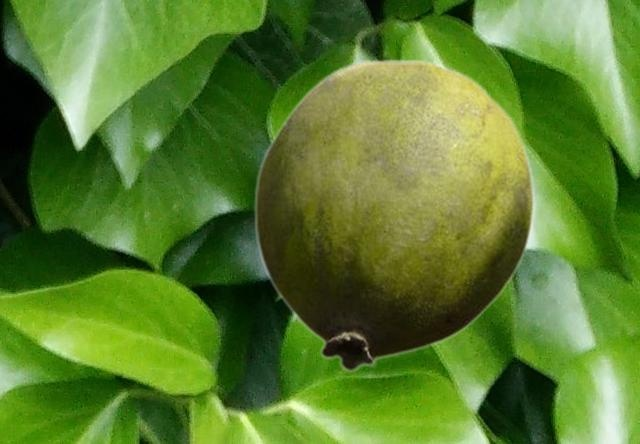guava: (253, 58, 535, 371)
